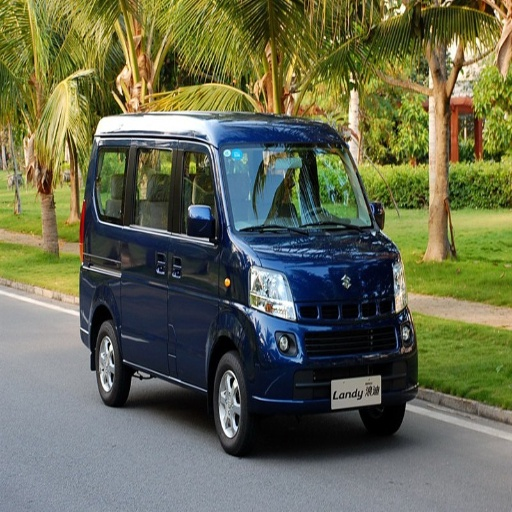front_bumper: (242, 282, 416, 417)
front_right_door: (164, 142, 221, 383)
front_right_light: (251, 263, 295, 319)
hood: (246, 227, 397, 302)
